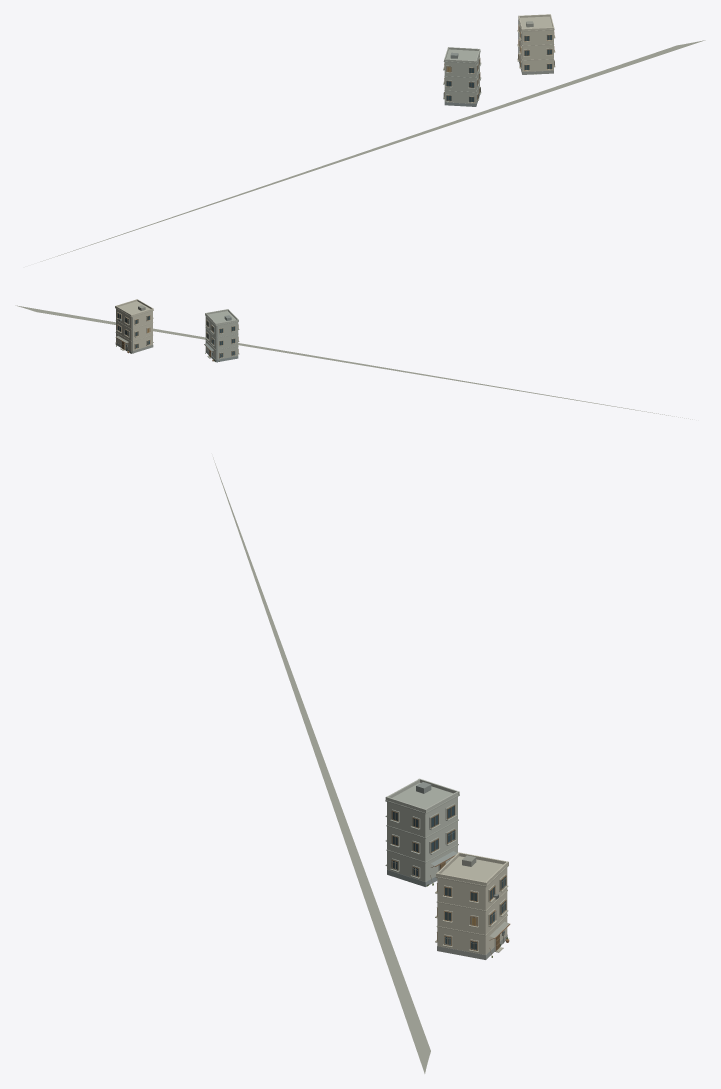
The model's file is street_3_7.glb.
3 views of the same model, one above another, from view 1: azimuth 30°, elevation 25°; view 2: azimuth 150°, elevation 25°; view 3: azimuth 270°, elevation 25° (orthographic). The views are drawn at different scales.
Parts seen in each view (by area): view 1: plaster.040, ground.054, trim.040, wood.040; view 2: plaster.040, ground.054, trim.040, wood.040, glass.040; view 3: plaster.040, ground.054, trim.040, wood.040, glass.040.
Boxes of the visible parts, bbox=[...] form: plaster.040: bbox=[444, 14, 554, 103]; ground.054: bbox=[40, 40, 705, 261]; trim.040: bbox=[443, 16, 555, 103]; wood.040: bbox=[444, 24, 554, 102]; plaster.040: bbox=[115, 299, 238, 359]; ground.054: bbox=[15, 305, 692, 419]; trim.040: bbox=[115, 301, 239, 358]; wood.040: bbox=[116, 312, 238, 357]; glass.040: bbox=[117, 313, 234, 357]; plaster.040: bbox=[385, 778, 508, 954]; ground.054: bbox=[213, 457, 430, 1073]; trim.040: bbox=[385, 782, 508, 952]; wood.040: bbox=[391, 805, 506, 955]; glass.040: bbox=[392, 806, 505, 950].
Bounding box in the file's own units: 173 × 10.42 × 35.13.
